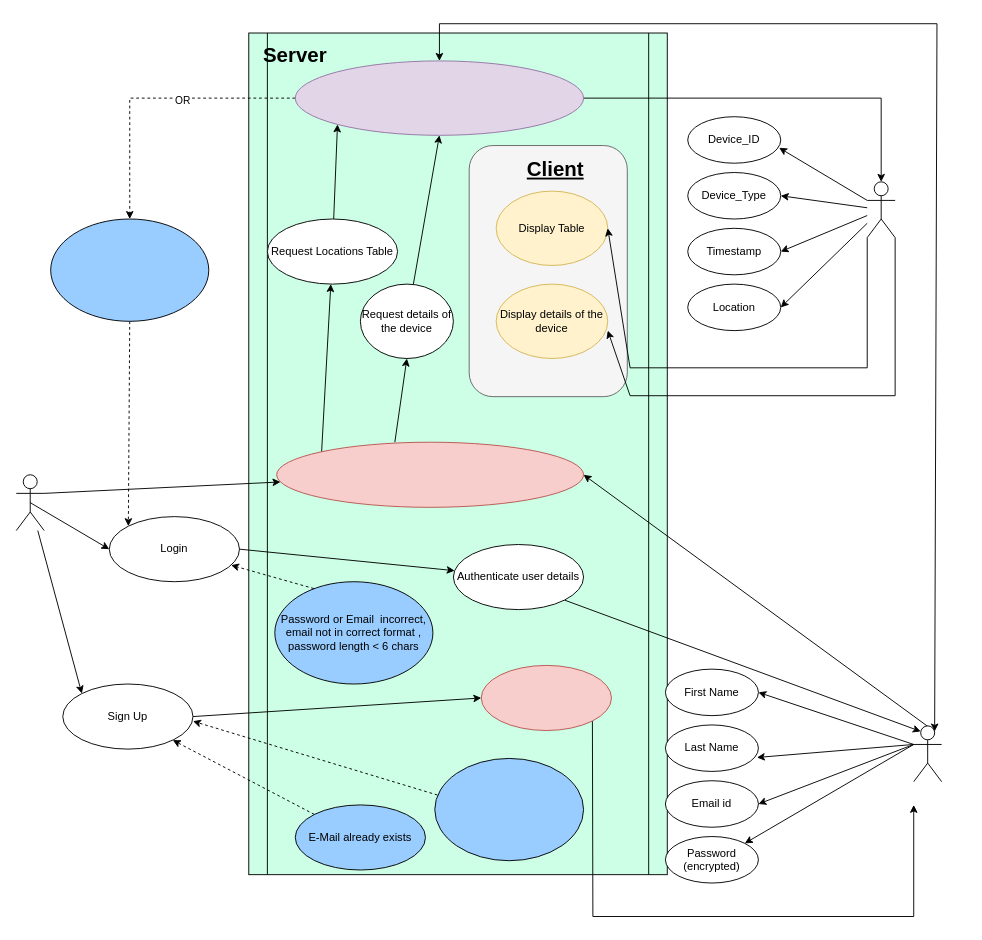
The diagram is 982 pixels wide and 940 high, and some of its shapes have lost their labels. Here are the shapes that lost their labels. From the top down, the centre of each, then its label:
[439,97]: Middle Ware (Validates the token data with the user Database)
[880,209]: GPS database
[129,269]: Token expired or Token Not Available.
[430,474]: Access Granted and Token Generated
[29,502]: User
[545,697]: Insert into Database
[927,753]: User Database
[509,809]: all details not filled, email not in correct format , password length < 6 chars
